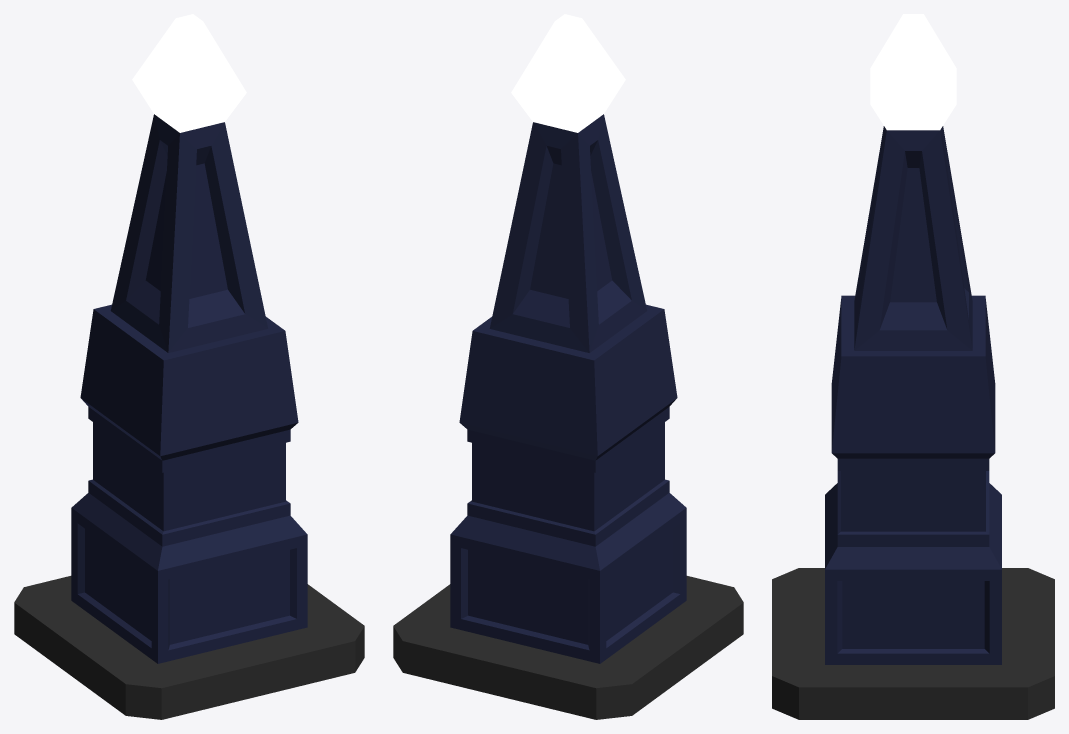
The model's file is BuildingD.fbx.
3 renders of one model, left to right at view 1: azimuth 30°, elevation 25°; view 2: azimuth 150°, elevation 25°; view 3: azimuth 270°, elevation 25°, orthographic. The views are drawn at different scales.
Parts seen in each view (by area): view 1: Cube.065; view 2: Cube.065; view 3: Cube.065.
Part boxes in pixels (left/top/right/bottom): Cube.065: left=14, top=14, right=364, bottom=719; Cube.065: left=393, top=14, right=743, bottom=719; Cube.065: left=772, top=14, right=1054, bottom=719.
Size of the model in its own units: 286 by 715 by 286.
Materials: 1 (1 with a texture image).
